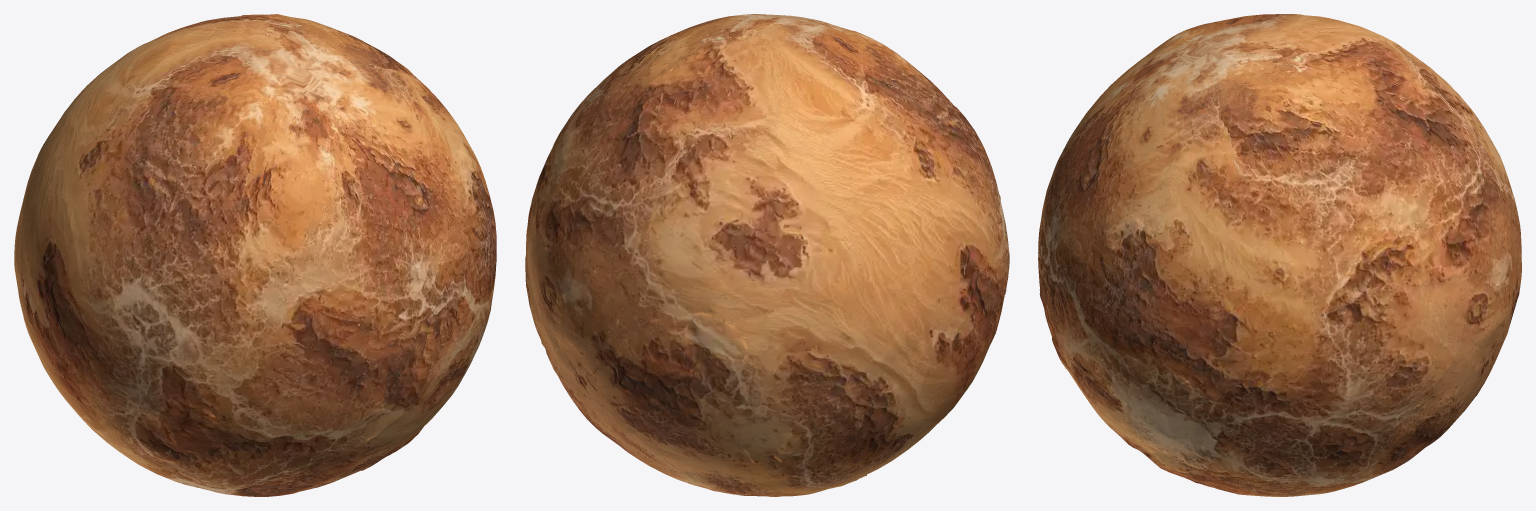
Rendered from planet_4.glb.
3 views of the same model, side by side, from view 1: azimuth 30°, elevation 25°; view 2: azimuth 150°, elevation 25°; view 3: azimuth 270°, elevation 25° (orthographic).
Parts seen in each view (by area): view 1: Mesh_0.001; view 2: Mesh_0.001; view 3: Mesh_0.001.
Boxes of the visible parts, x1,y1,x2,y2 form: Mesh_0.001: (14,14,496,496); Mesh_0.001: (525,14,1009,496); Mesh_0.001: (1038,14,1521,496).
Bounding box in the file's own units: 1.9 × 1.9 × 1.9.
Materials: 1 (1 with a texture image).
